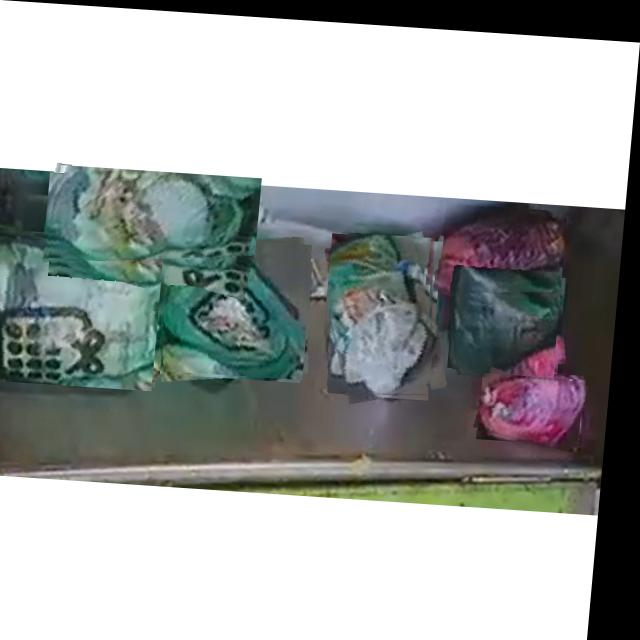general_trashbag: (0, 241, 167, 381), (166, 242, 313, 375), (55, 166, 265, 259), (333, 229, 439, 389), (458, 271, 564, 368)
other_trashbag: (441, 201, 569, 286), (487, 369, 593, 435)
